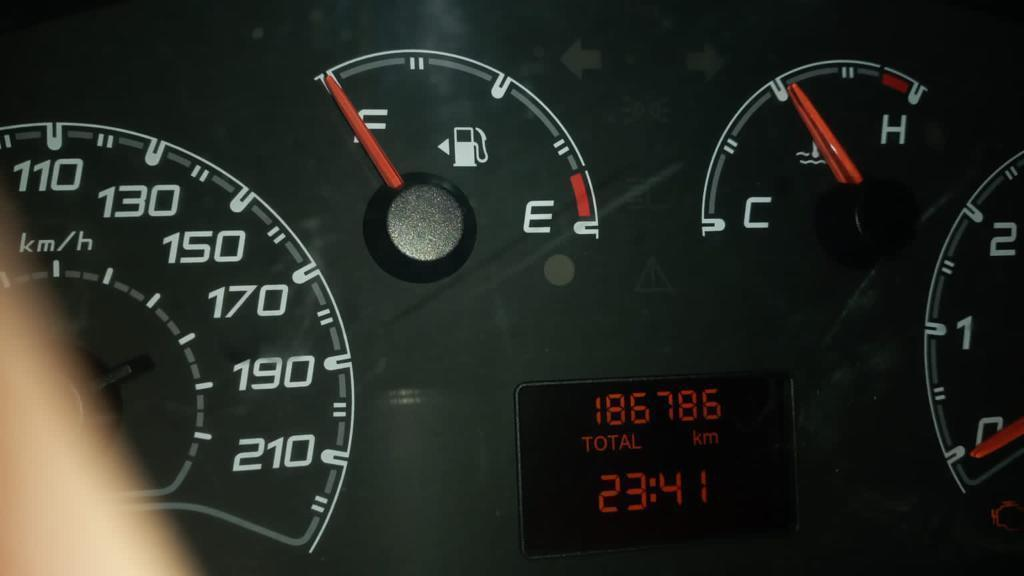1: (697, 468, 708, 503), (592, 395, 602, 425)
2: (596, 471, 622, 514)
3: (624, 471, 646, 512)
4: (658, 469, 684, 508)
6: (629, 390, 651, 425), (701, 387, 722, 421)
7: (654, 390, 675, 422)
8: (677, 388, 698, 422), (605, 392, 626, 425)
X: (647, 476, 658, 504), (702, 430, 719, 446), (579, 435, 593, 452), (593, 434, 607, 451), (607, 433, 619, 450), (619, 433, 631, 450), (691, 428, 702, 445), (631, 432, 641, 449)
odometer: (510, 366, 811, 563)
